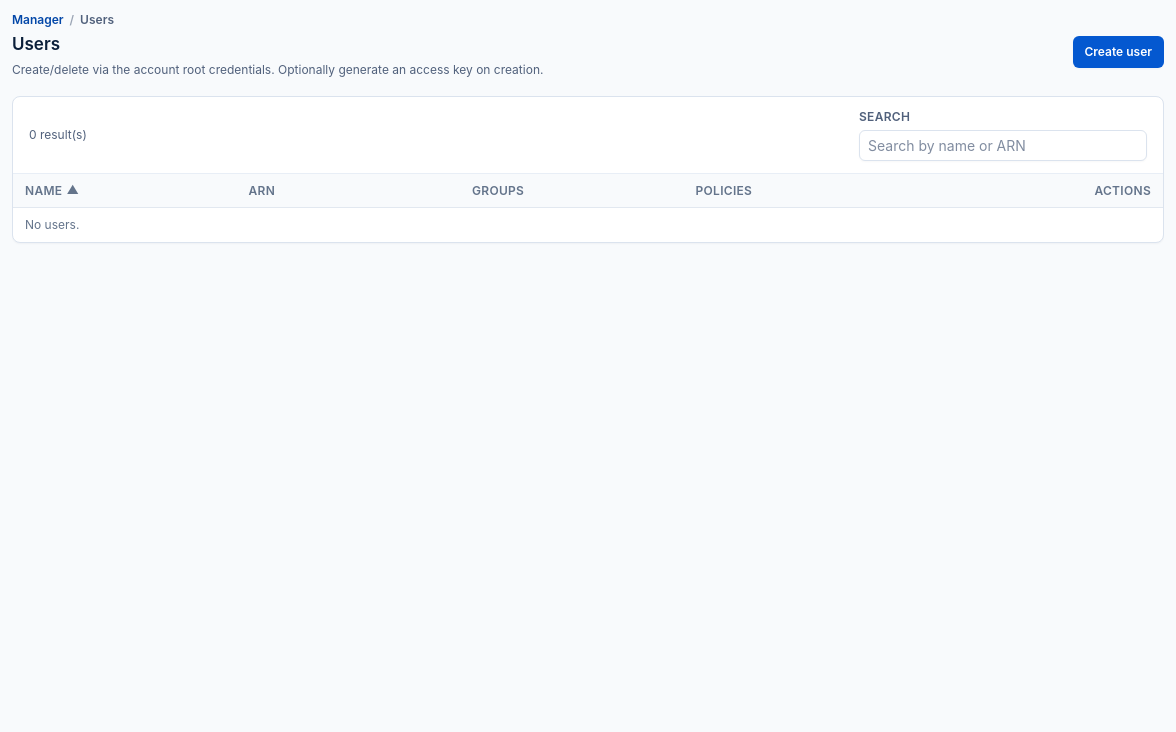
it: ManagerUsersPage › shows created access keys in the shared one-time secret panel
Click the button "Create user". click: (1118, 52)
box: [1072, 36, 1164, 68]
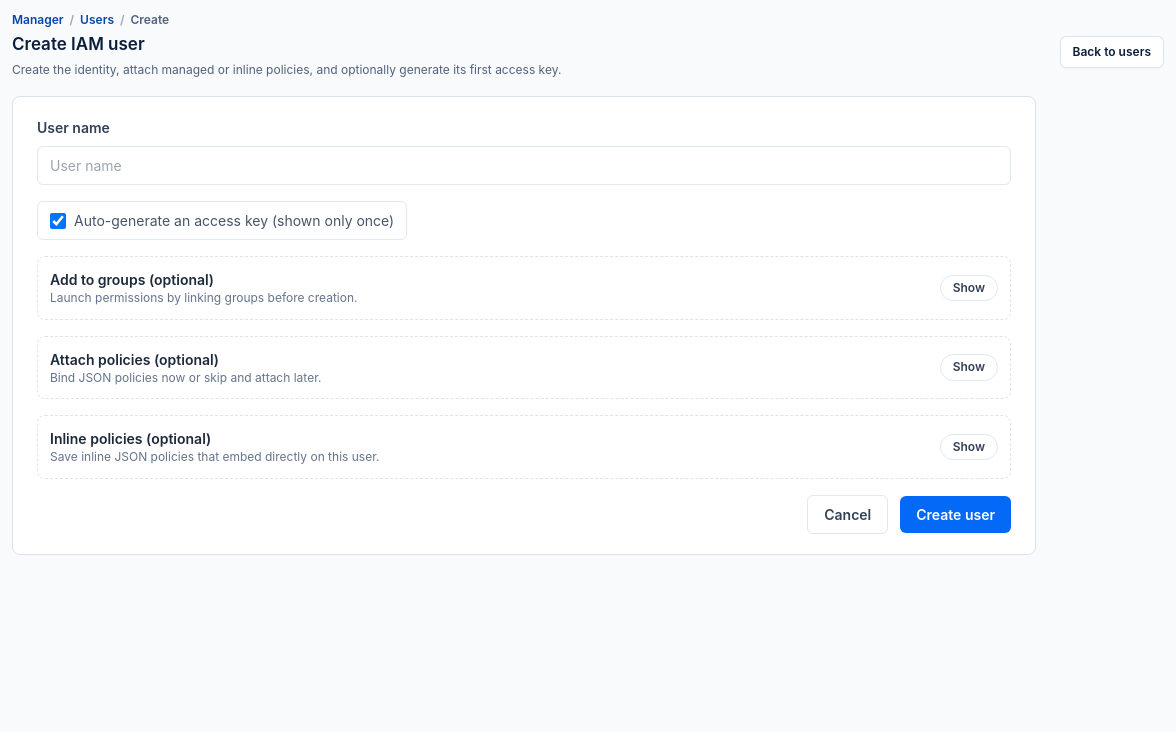
Type "bob" into the field with placeholder "User name". click: (524, 166)
box: [37, 146, 1011, 185]
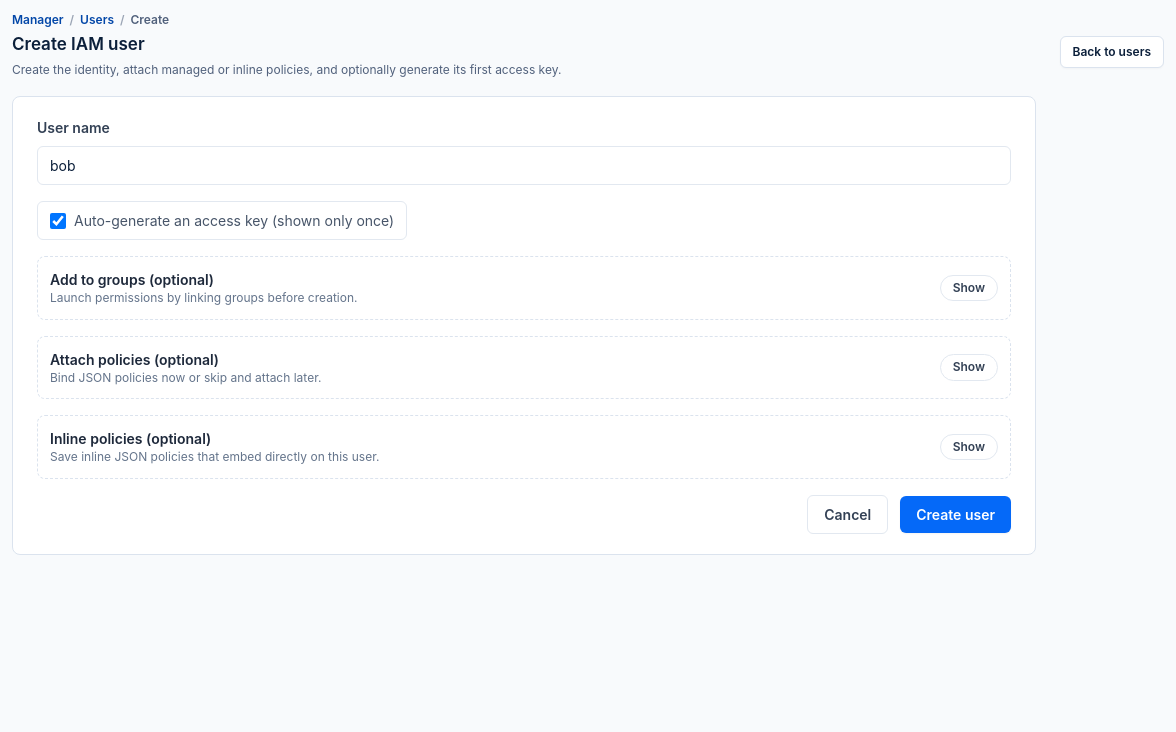
Click the button "Create user". click: (956, 514)
box: [900, 496, 1011, 532]
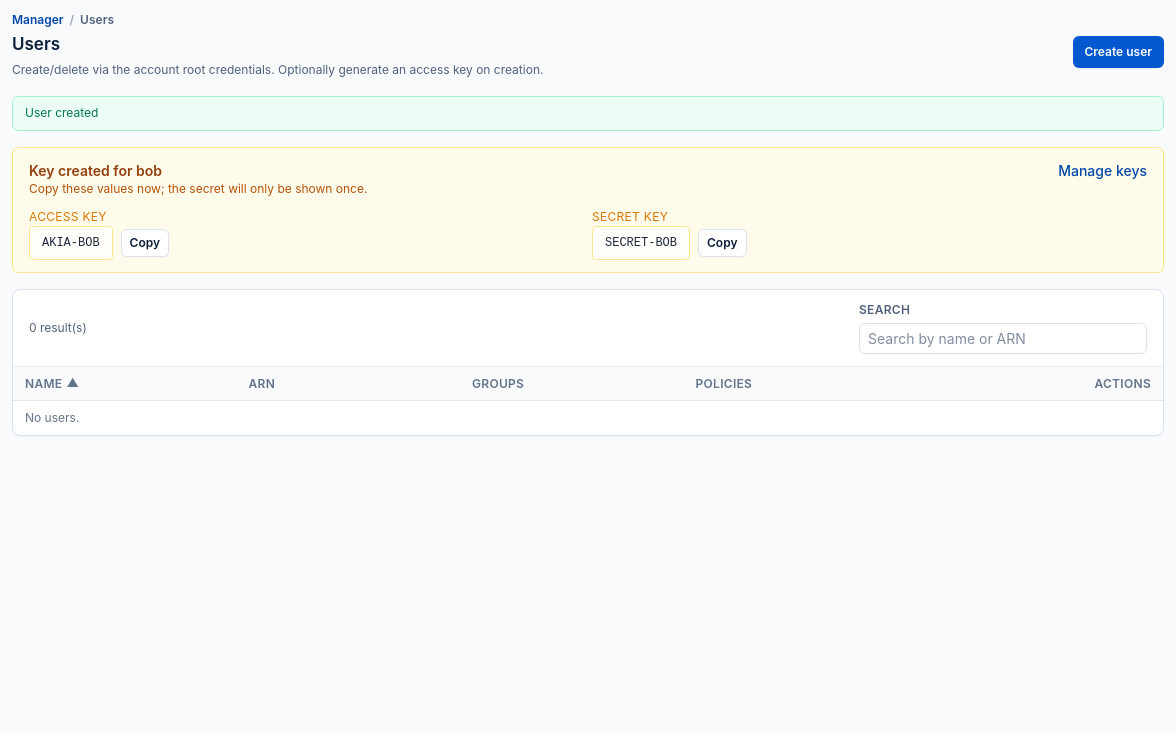
Result: the text "Key created for bob" is shown at [29, 162, 162, 178]
Result: the number of buttons "Copy" is 2 at [121, 229, 169, 257]; [698, 229, 746, 257]
